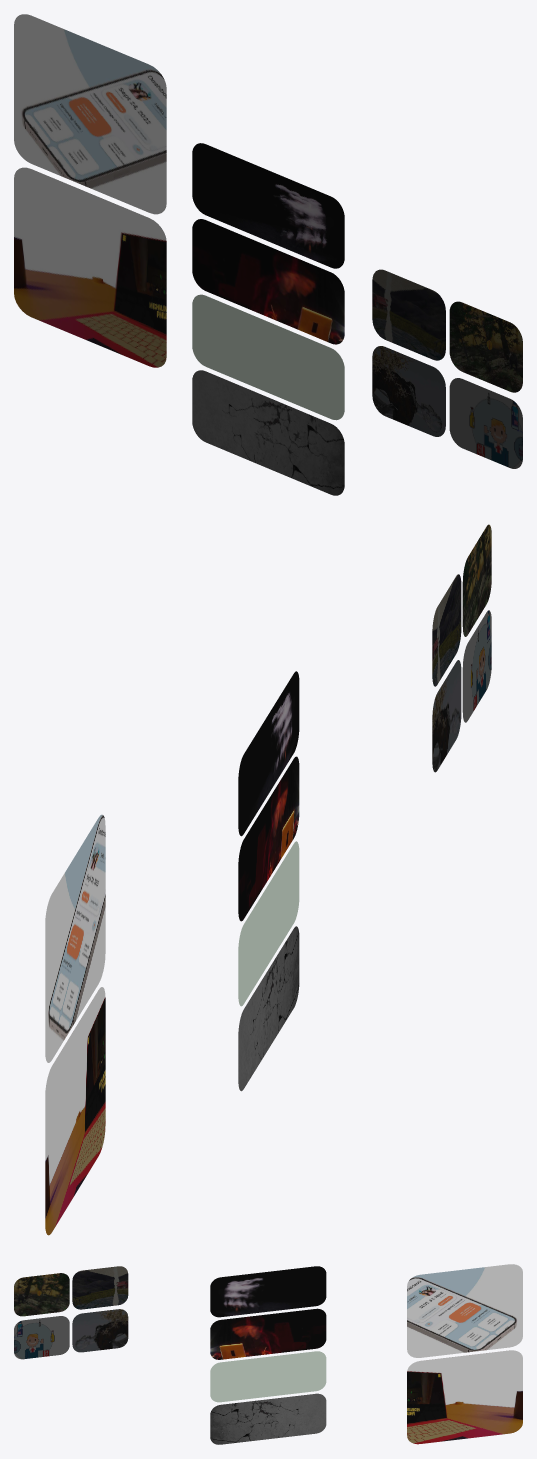
Rendered from tiles.glb.
3 renders of one model, top to bottom at view 1: azimuth 30°, elevation 25°; view 2: azimuth 150°, elevation 25°; view 3: azimuth 270°, elevation 25°, orthographic. The views are drawn at different scales.
Parts seen in each view (by area): view 1: Plane.001, Plane, Plane.006, Plane.004, Plane.005, Plane.007, Plane.009, Plane.008, Plane.010, Plane.011; view 2: Plane, Plane.001, Plane.004, Plane.007, Plane.005, Plane.006, Plane.008, Plane.010, Plane.011, Plane.009; view 3: Plane.001, Plane, Plane.006, Plane.004, Plane.007, Plane.005, Plane.010, Plane.008, Plane.009, Plane.011.
Boxes of the visible parts, left/top/right/bottom form: Plane.001: left=14, top=167, right=166, bottom=367; Plane: left=14, top=14, right=166, bottom=214; Plane.006: left=192, top=294, right=344, bottom=420; Plane.004: left=192, top=143, right=344, bottom=268; Plane.005: left=192, top=219, right=344, bottom=344; Plane.007: left=192, top=370, right=344, bottom=495; Plane.009: left=449, top=301, right=522, bottom=392; Plane.008: left=372, top=269, right=445, bottom=360; Plane.010: left=372, top=346, right=445, bottom=436; Plane.011: left=449, top=378, right=522, bottom=468; Plane: left=45, top=814, right=105, bottom=1062; Plane.001: left=45, top=987, right=105, bottom=1235; Plane.004: left=238, top=671, right=299, bottom=836; Plane.007: left=238, top=926, right=299, bottom=1091; Plane.005: left=238, top=756, right=299, bottom=921; Plane.006: left=238, top=841, right=299, bottom=1006; Plane.008: left=432, top=574, right=461, bottom=686; Plane.010: left=432, top=660, right=461, bottom=772; Plane.011: left=462, top=610, right=491, bottom=722; Plane.009: left=462, top=524, right=491, bottom=636; Plane.001: left=407, top=1350, right=522, bottom=1444; Plane: left=407, top=1264, right=522, bottom=1357; Plane.006: left=210, top=1351, right=326, bottom=1402; Plane.004: left=210, top=1266, right=326, bottom=1317; Plane.007: left=210, top=1393, right=326, bottom=1444; Plane.005: left=210, top=1308, right=326, bottom=1359; Plane.010: left=72, top=1309, right=128, bottom=1352; Plane.008: left=72, top=1266, right=128, bottom=1309; Plane.009: left=14, top=1273, right=69, bottom=1316; Plane.011: left=14, top=1316, right=69, bottom=1359.
Bounding box in the file's own units: 0.4873 × 2.53 × 6.88.
10 materials, 10 textured.
